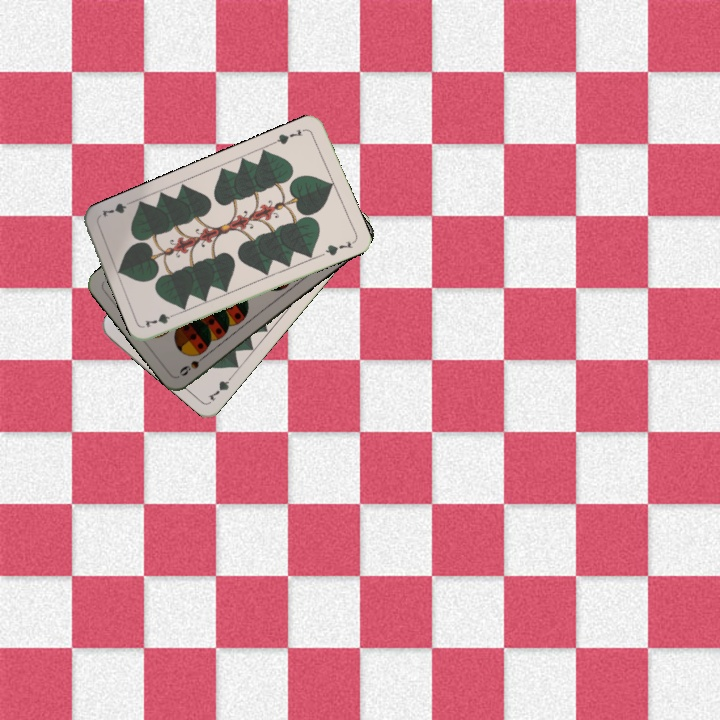G7: (204, 370, 237, 404), (141, 308, 181, 330), (270, 125, 309, 147)
S9: (175, 349, 211, 379)
